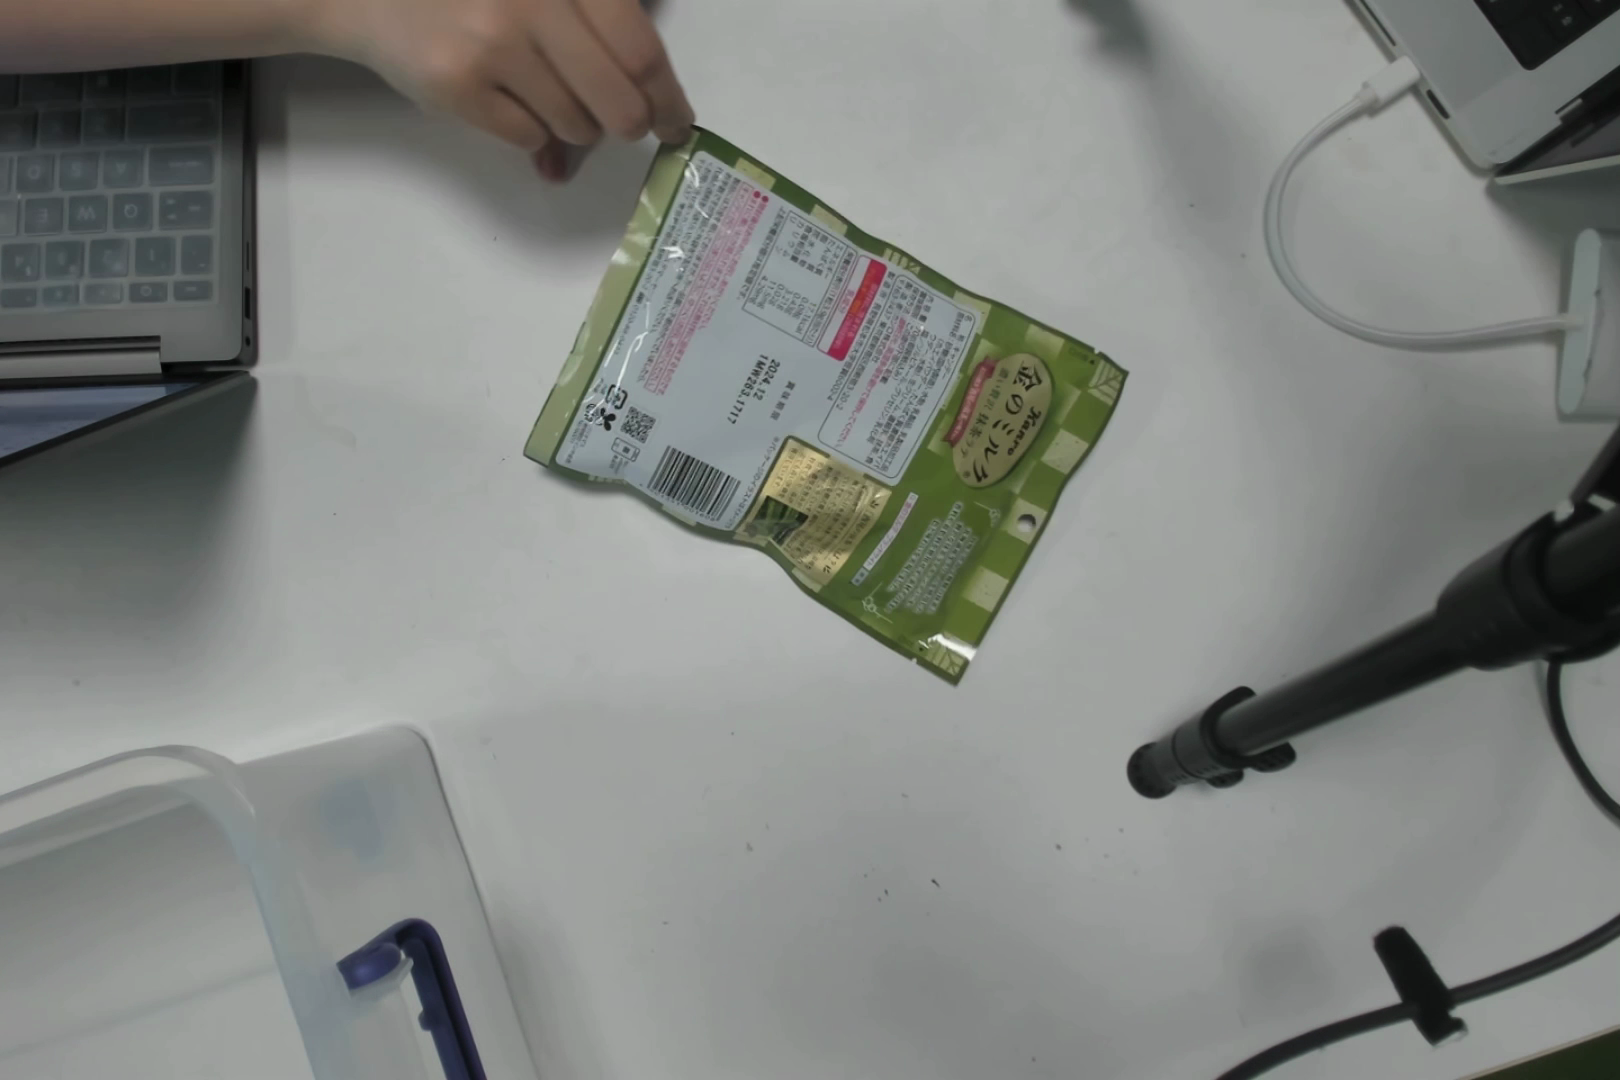SweetsChocolatesOthers_1-99g_NonHalal_NonHealthy: (595, 176, 1066, 594)
